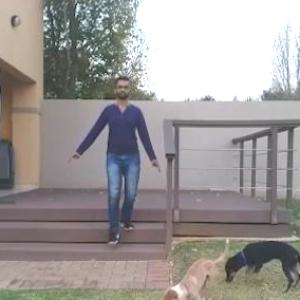land: (78, 82, 161, 236)
